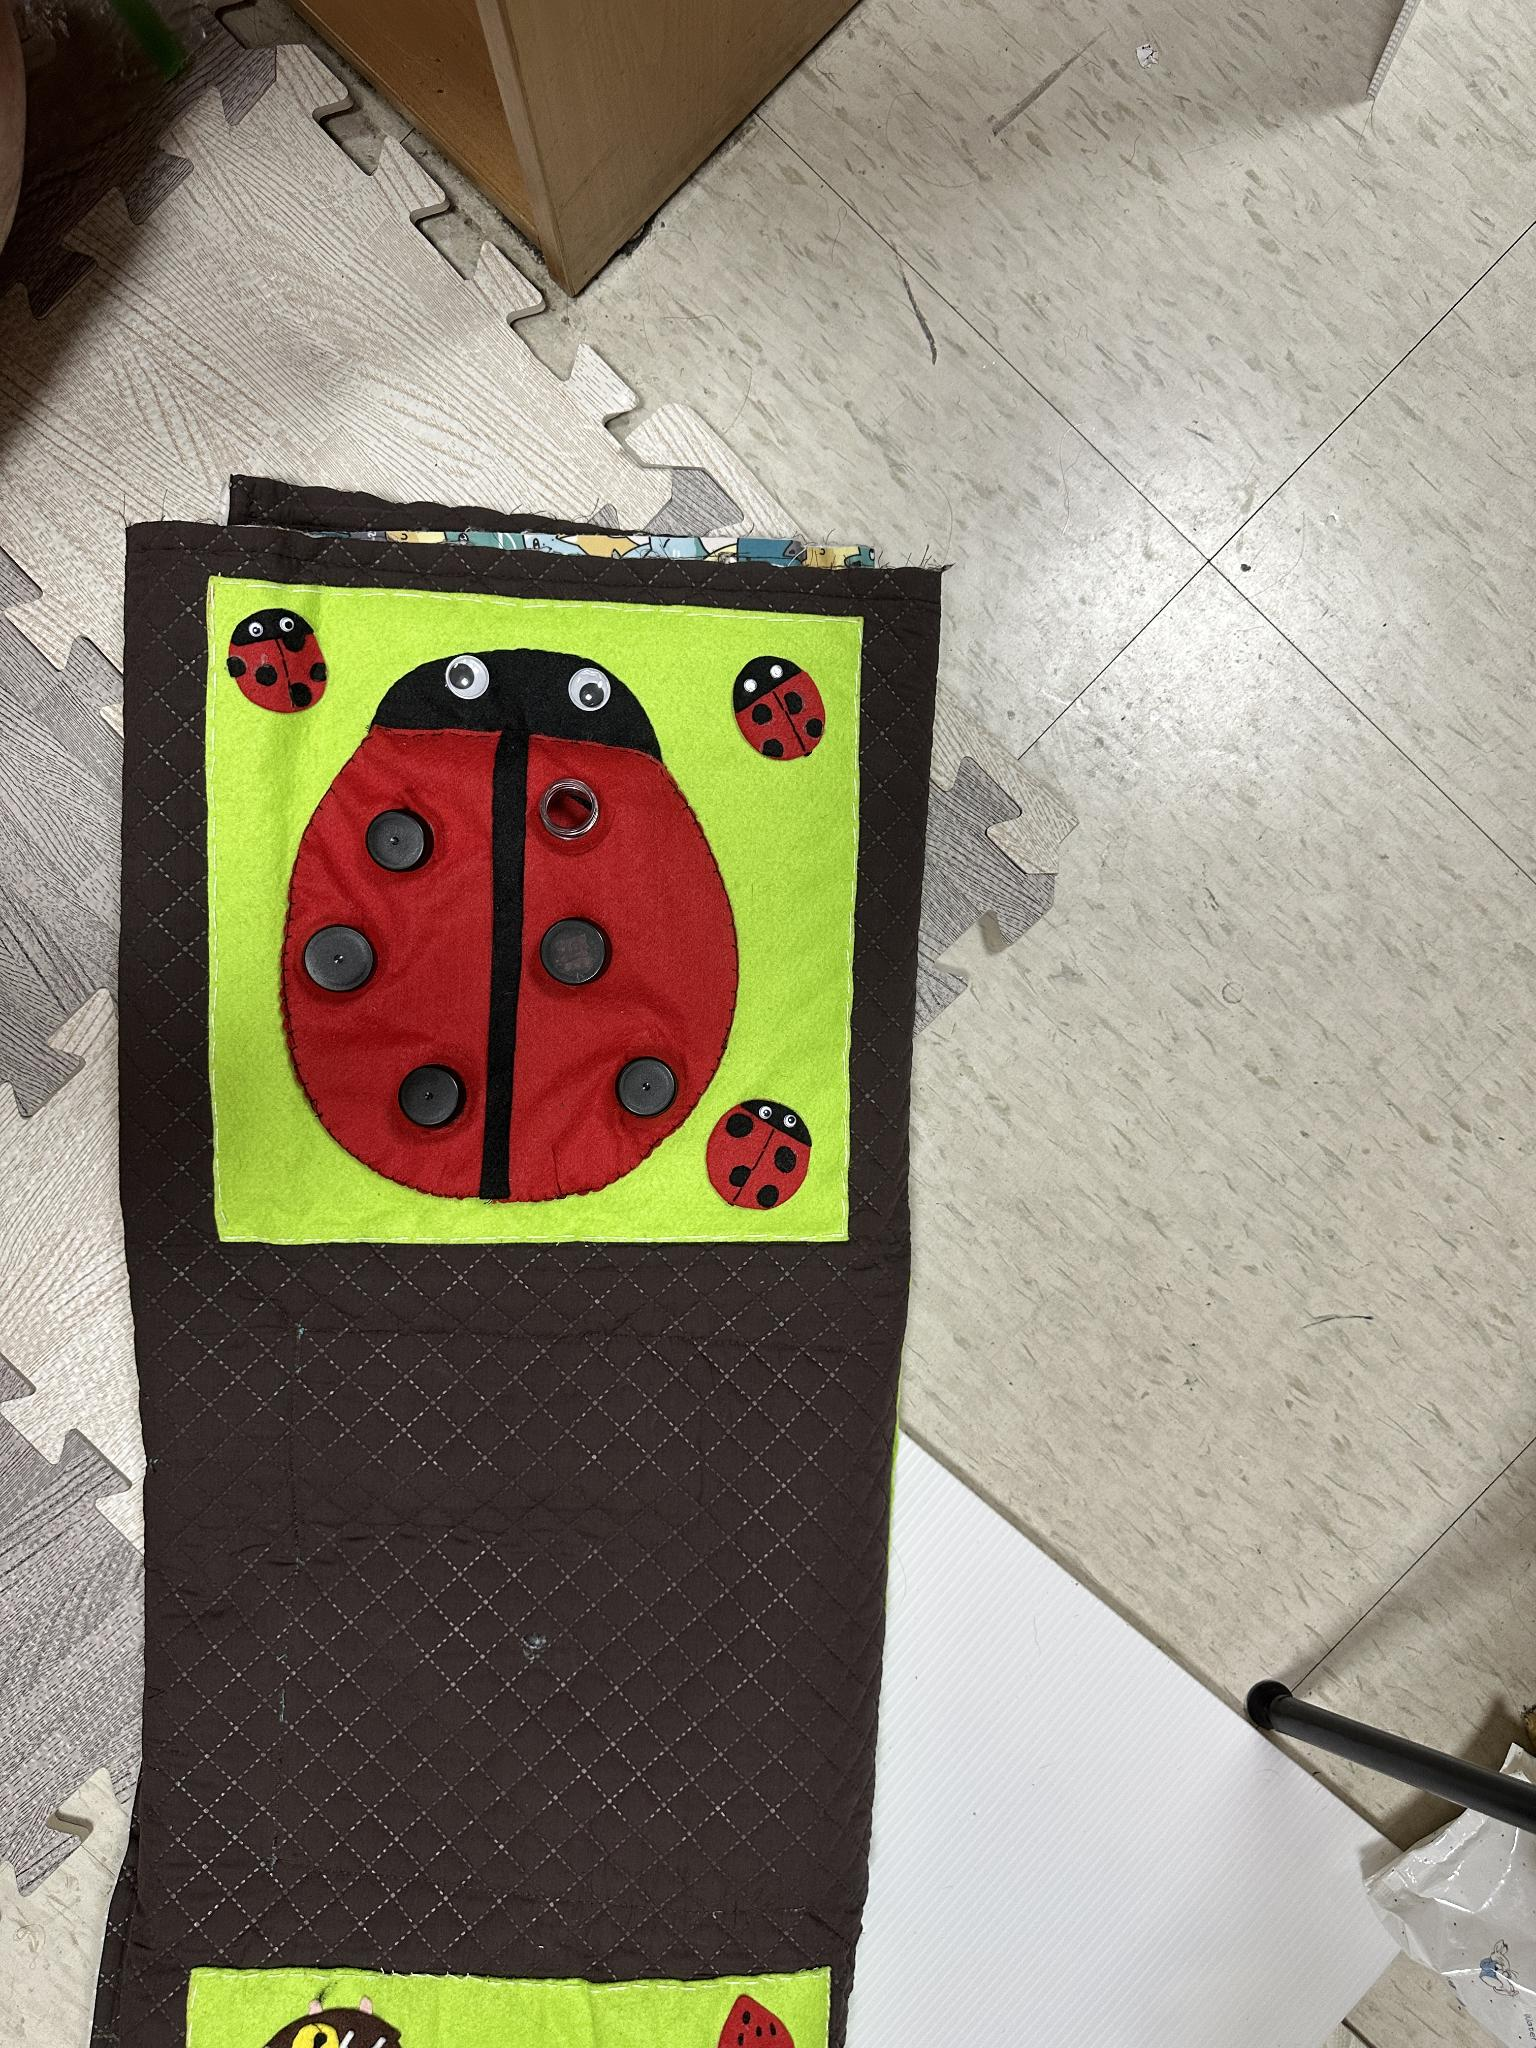cap_ok: (378, 1050, 482, 1142), (360, 784, 442, 895), (529, 908, 623, 990), (298, 919, 389, 1003), (602, 1048, 686, 1129)
